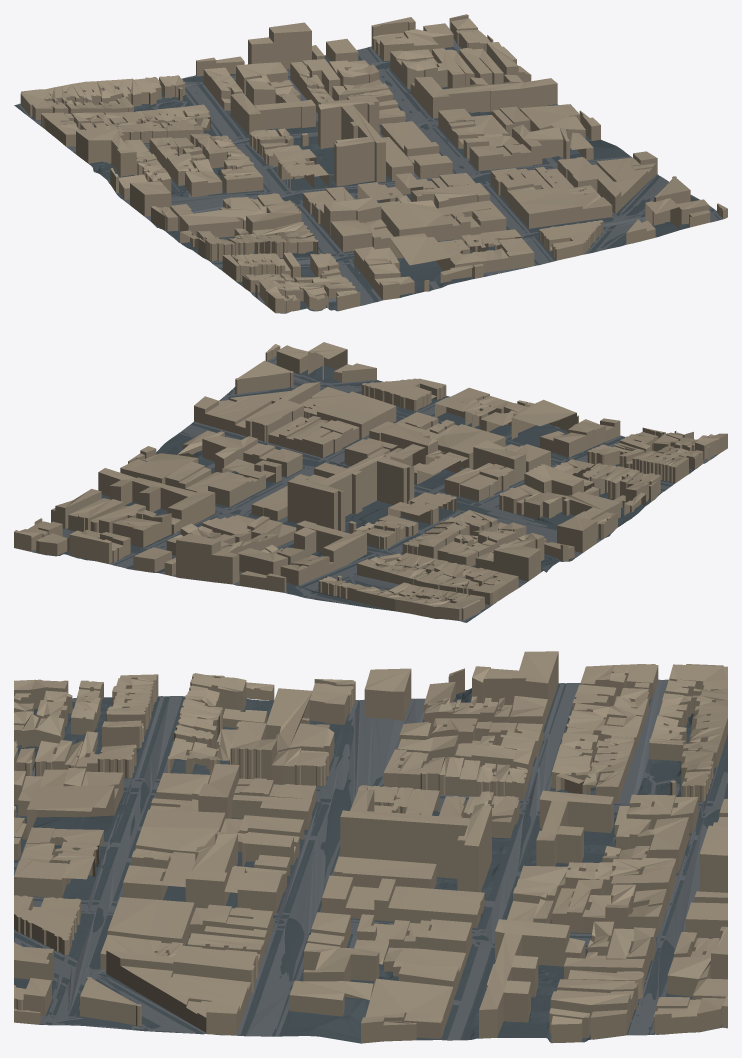
File: epsg26910-1437-10894.lod0.glb
3 renders of one model, top to bottom at view 1: azimuth 30°, elevation 25°; view 2: azimuth 150°, elevation 25°; view 3: azimuth 270°, elevation 25°, orthographic. The views are drawn at different scales.
Parts seen in each view (by area): view 1: epsg26910-1437-10894-lod0; view 2: epsg26910-1437-10894-lod0; view 3: epsg26910-1437-10894-lod0.
Part boxes in pixels (x1,y1,x2,y2): epsg26910-1437-10894-lod0: [14, 14, 727, 313]; epsg26910-1437-10894-lod0: [14, 342, 727, 622]; epsg26910-1437-10894-lod0: [14, 651, 727, 1043].
Size of the model in its own units: 384 by 53.73 by 384.
